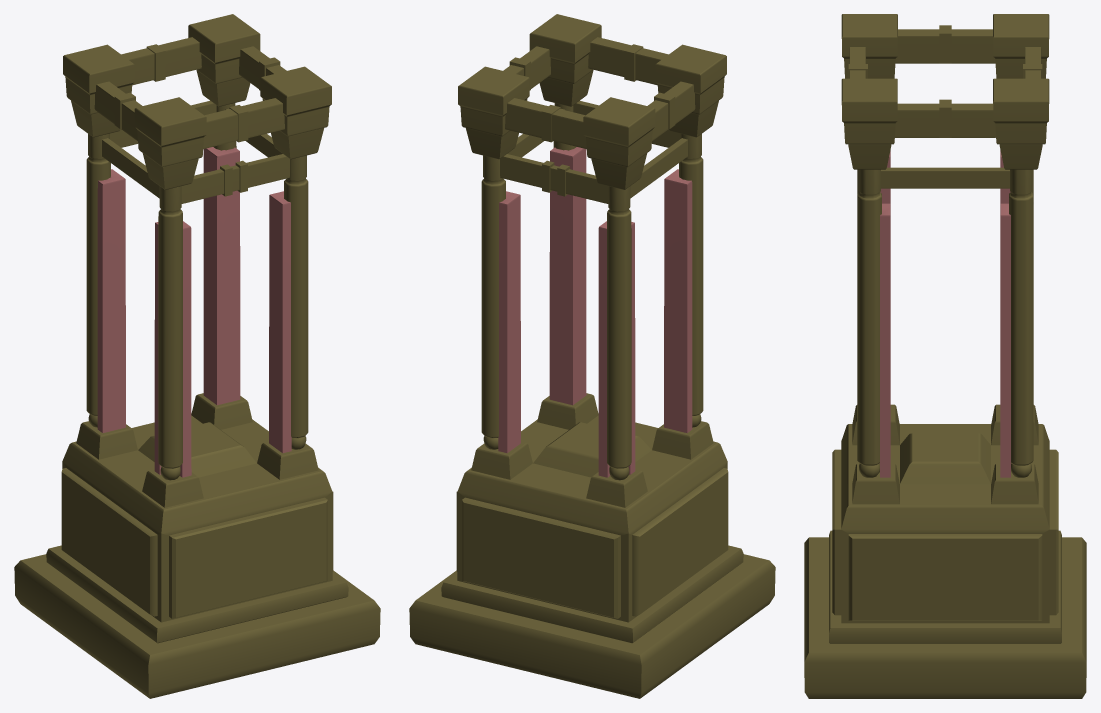
File: Add1.fbx
The picture shows the model from 3 angles, left to right: view 1: azimuth 30°, elevation 25°; view 2: azimuth 150°, elevation 25°; view 3: azimuth 270°, elevation 25°; orthographic projection. The views are drawn at different scales.
Parts seen in each view (by area): view 1: pCube38; view 2: pCube38; view 3: pCube38.
Part boxes in pixels (left/top/right/bottom): pCube38: left=14, top=14, right=380, bottom=698; pCube38: left=409, top=14, right=775, bottom=698; pCube38: left=804, top=14, right=1086, bottom=698.
Bounding box in the file's own units: 9.18 × 20.93 × 9.18.
